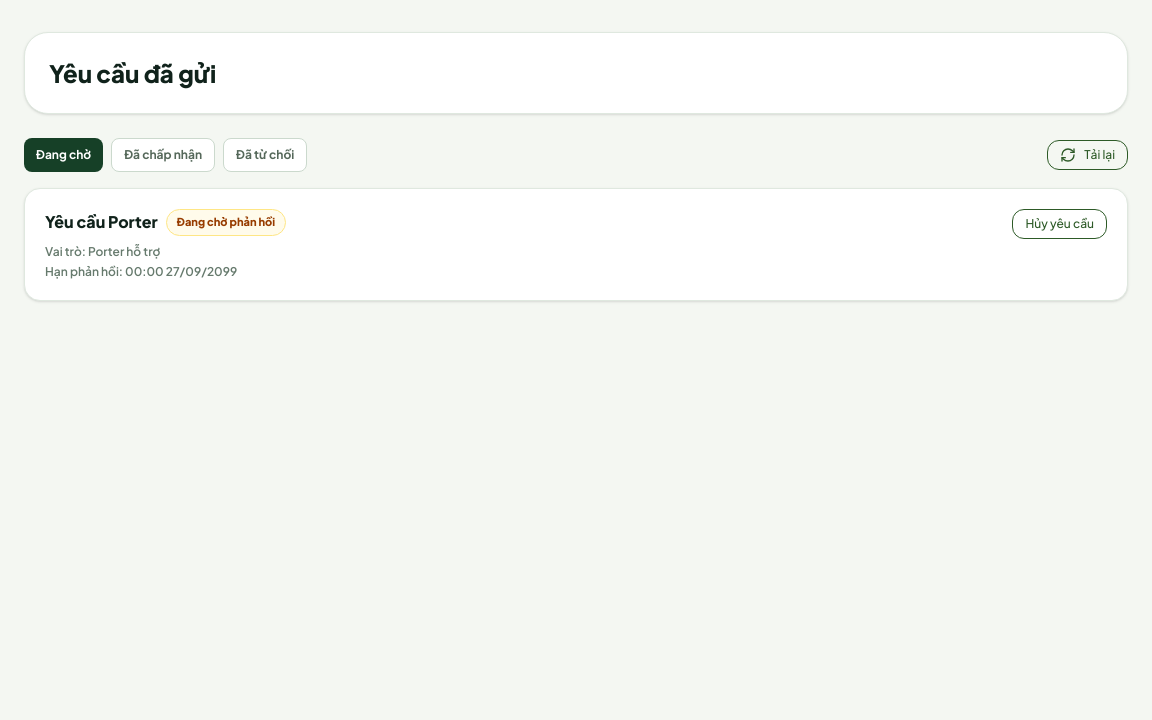
HostPorterRequestsPage › keeps cancellation network errors visible in the modal
Click the button "Hủy yêu cầu" at (1060, 224), box [1012, 209, 1107, 239]
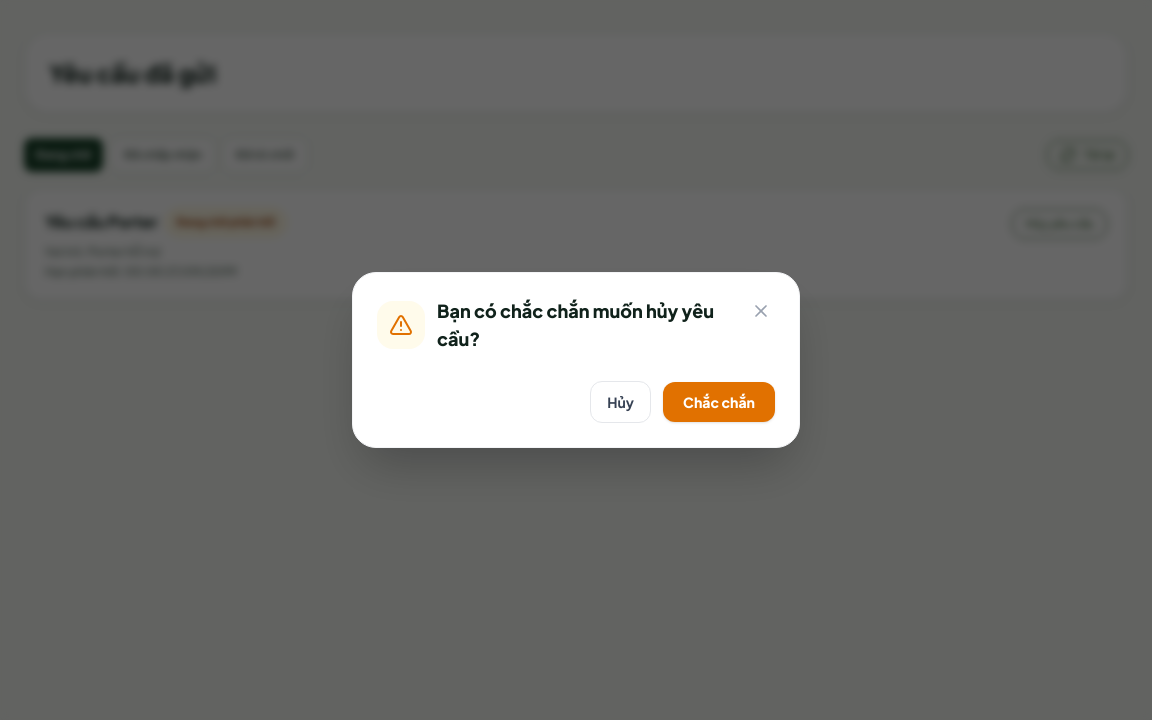
Click the button with test id "confirm-modal-submit" at (719, 402), box [663, 382, 775, 422]
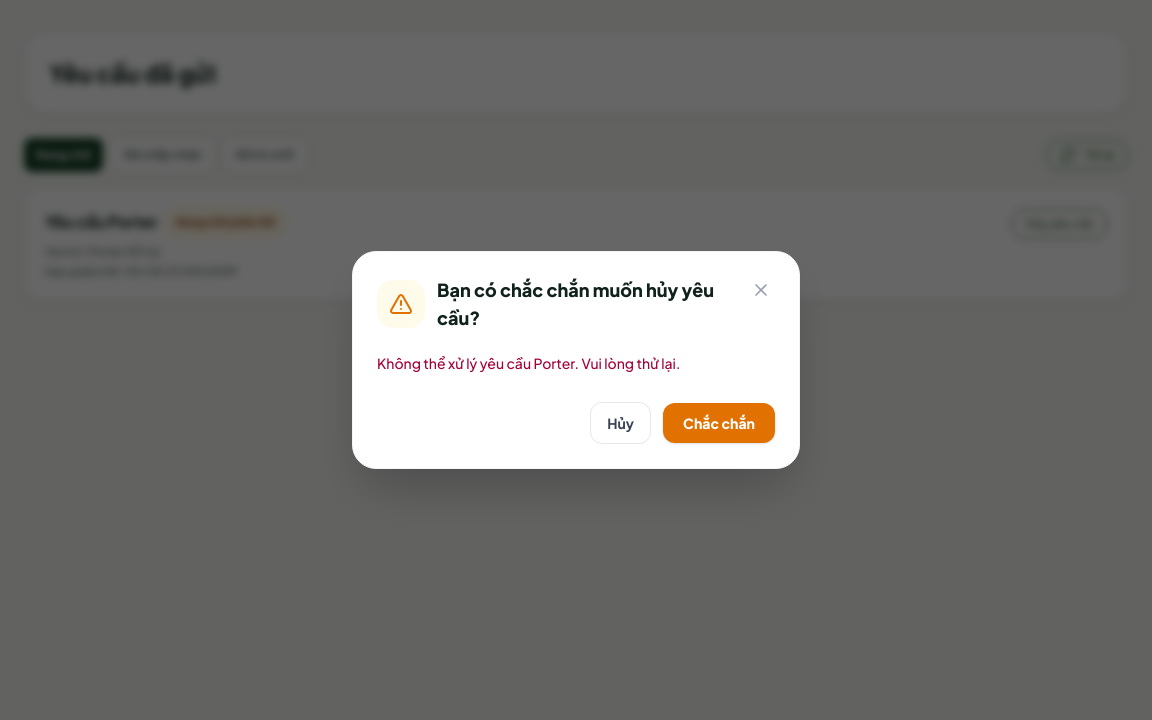
Check: the button with test id "confirm-modal-submit" is enabled, box [663, 403, 775, 443]
Check: the message shows "Vui lòng thử lại", box [377, 354, 680, 372]
